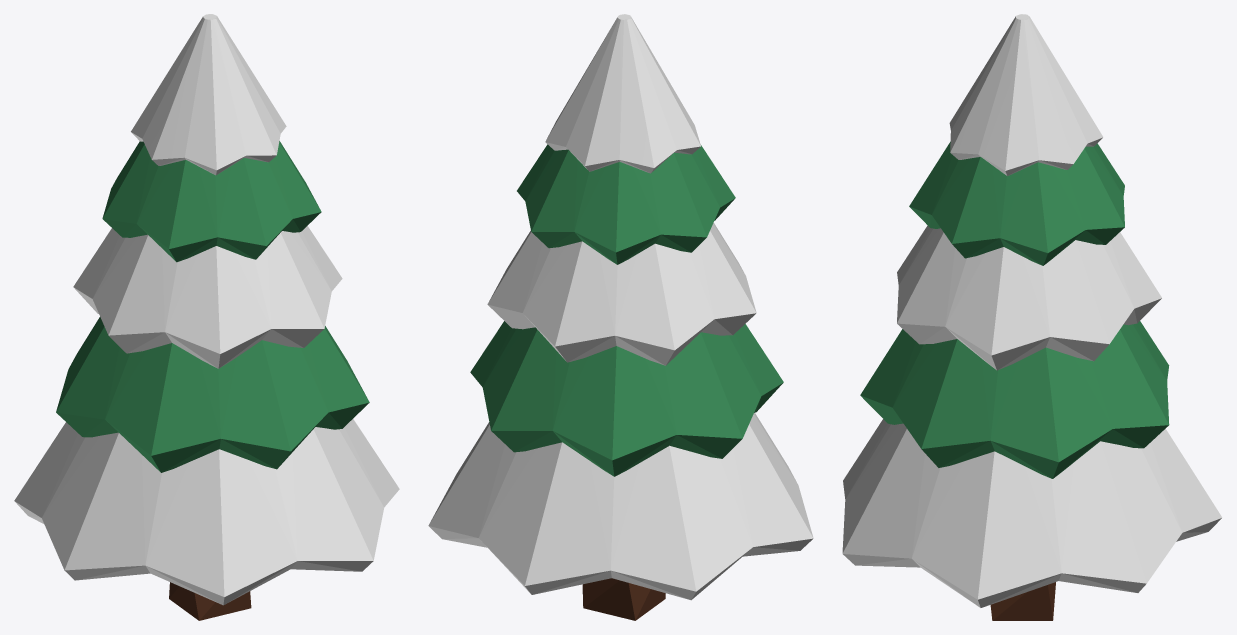
The model's file is FH_Pine1.fbx.
3 renders of one model, left to right at view 1: azimuth 30°, elevation 25°; view 2: azimuth 150°, elevation 25°; view 3: azimuth 270°, elevation 25°, orthographic.
Parts seen in each view (by area): view 1: Cube.006; view 2: Cube.006; view 3: Cube.006.
Part boxes in pixels (x1,y1,x2,y2): Cube.006: (14,14,399,620); Cube.006: (428,14,813,620); Cube.006: (842,14,1222,620).
Size of the model in its own units: 1414 by 2367 by 1379.
